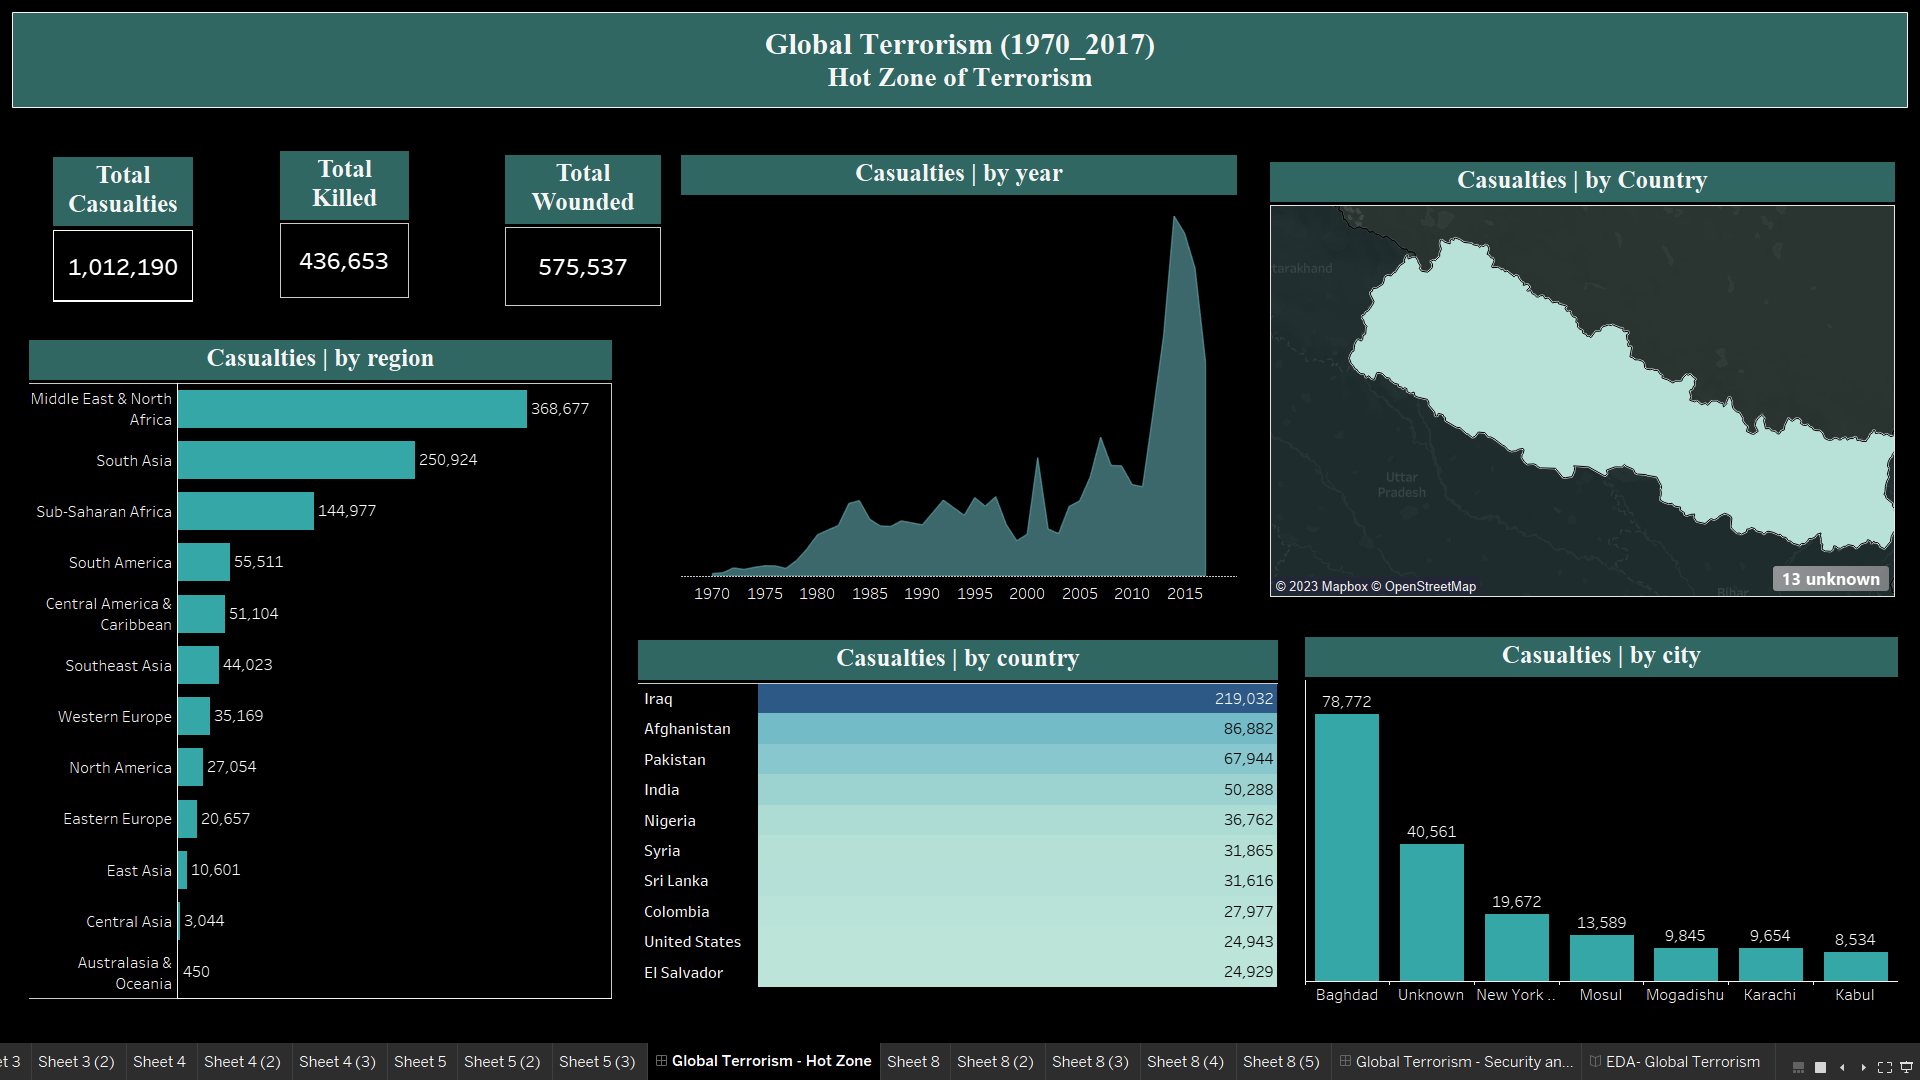

What the dashboard file says about the page in this screenshot:
{"tool":"tableau","page":{"name":"Global Terrorism - Hot Zone","canvas":[1000,1000],"units":"permille","ordinal":0},"visuals":[{"type":"title","box":[4.2,7.7,991.7,99.7]},{"type":"worksheet","title":"Sheet 5 (2)","mark":"Automatic","box":[146.1,145.2,67,140.5]},{"type":"worksheet","title":"Sheet 5 (3)","mark":"Automatic","box":[263.1,148.7,81.5,145.2]},{"type":"worksheet","title":"Sheet 1","mark":"Automatic","rows":["Casualties"],"cols":["Year"],"box":[354.9,148.7,289.7,432.1]},{"type":"worksheet","title":"Sheet 5","mark":"Automatic","box":[27.2,151,73.6,139.4]},{"type":"worksheet","title":"Sheet 2","mark":"Multipolygon","box":[661.4,155.6,325.3,417]},{"type":"worksheet","title":"Sheet 3","mark":"Automatic","rows":["Region"],"cols":["Casualties"],"box":[15.1,326.4,303.6,631.8]},{"type":"worksheet","title":"Sheet 4","mark":"Automatic","rows":["Casualties"],"cols":["city"],"box":[679.5,610.9,309,368.2]},{"type":"worksheet","title":"Sheet 3 (2)","mark":"Square","rows":["Country"],"box":[332.5,613.2,333.1,333.3]}]}

Visuals, with their boxes on the dashboard's canvas, which has no fixed pixel size, in thousandths of its width and height (x1, y1, x2, y2). These are canvas units, not pixel positions in the 1920x1080 screenshot, which may show the page scaled, cropped or inside an application window:
title: 4 8 996 107
"Sheet 5 (2)" worksheet: 146 145 213 286
"Sheet 5 (3)" worksheet: 263 149 345 294
"Sheet 1" worksheet: 355 149 645 581
"Sheet 5" worksheet: 27 151 101 290
"Sheet 2" worksheet (Multipolygon marks): 661 156 987 573
"Sheet 3" worksheet: 15 326 319 958
"Sheet 4" worksheet: 680 611 988 979
"Sheet 3 (2)" worksheet (Square marks): 332 613 666 946
